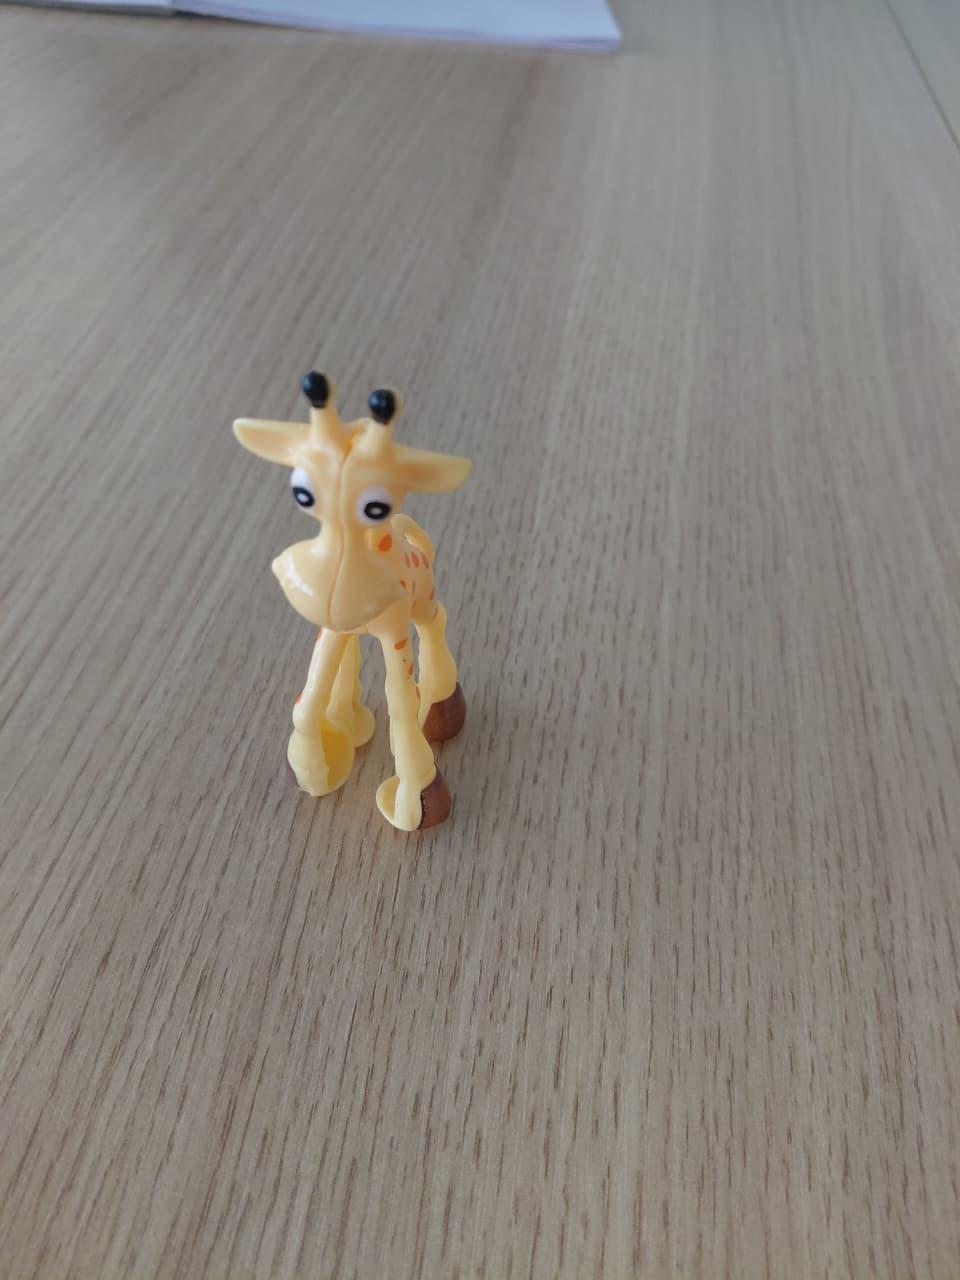giraffe: (200, 353, 628, 919)
